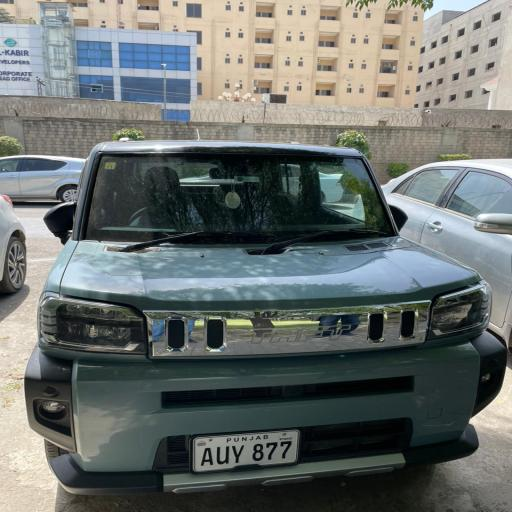number_plate: (192, 430, 301, 468)
